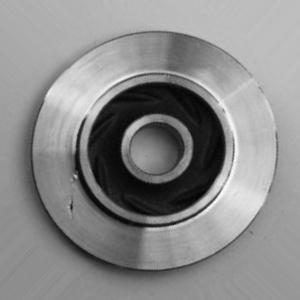crack: (59, 165, 86, 220)
unpolished_casting: (28, 29, 278, 274)
